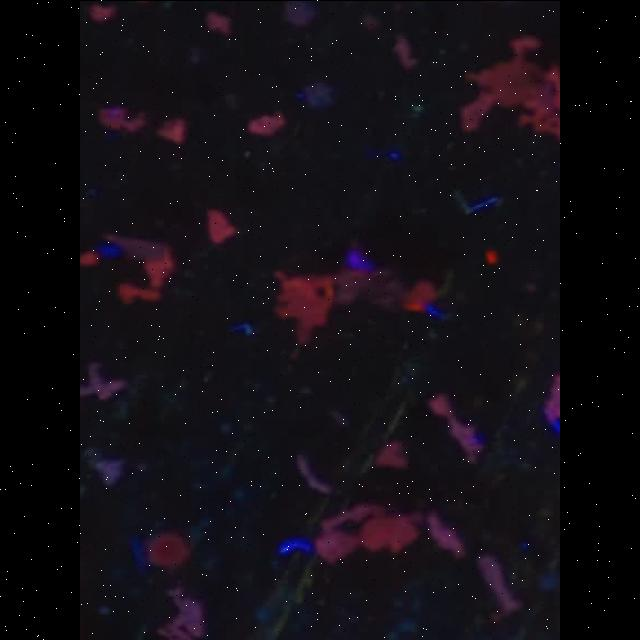Fragment: (461, 34, 561, 144)
